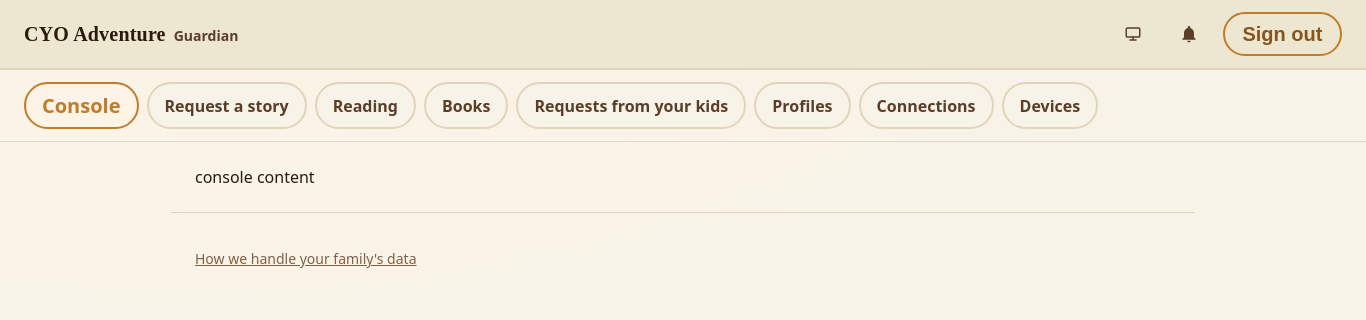
GuardianShell › shows an error banner when sign-out rejects
What coordinates should you click on to do the following:
click the button "Sign out"
I would click on:
 (1282, 34)
Its box is top-left (1223, 12), bottom-right (1342, 56).
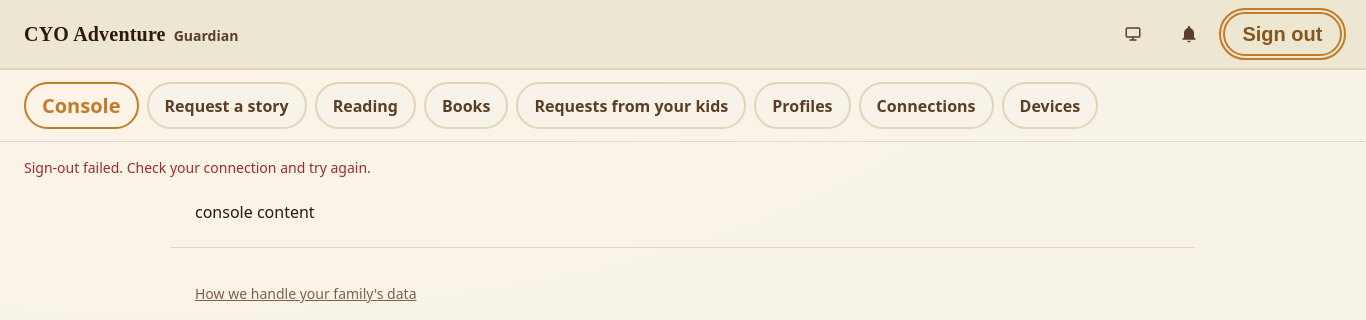
Expected: the message shows "Sign-out failed", top-left (24, 158), bottom-right (371, 177)
